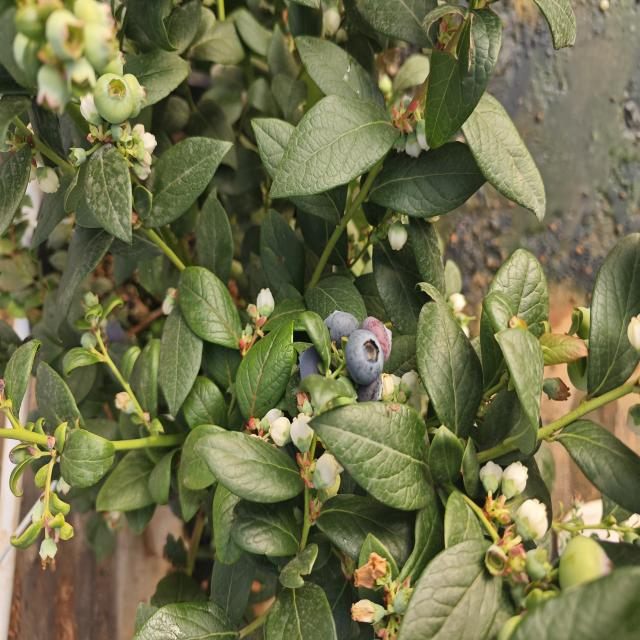ripe: (342, 328, 388, 387), (314, 305, 362, 352), (358, 309, 396, 365), (294, 334, 329, 392)
